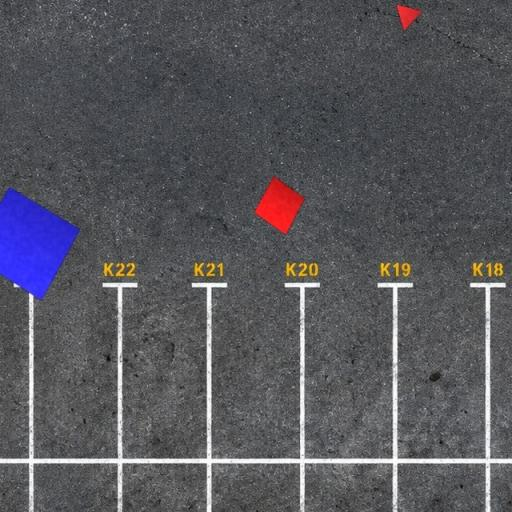BLUE_SQUARE: (0, 186, 81, 302)
RED_SQUARE: (252, 175, 306, 236)
